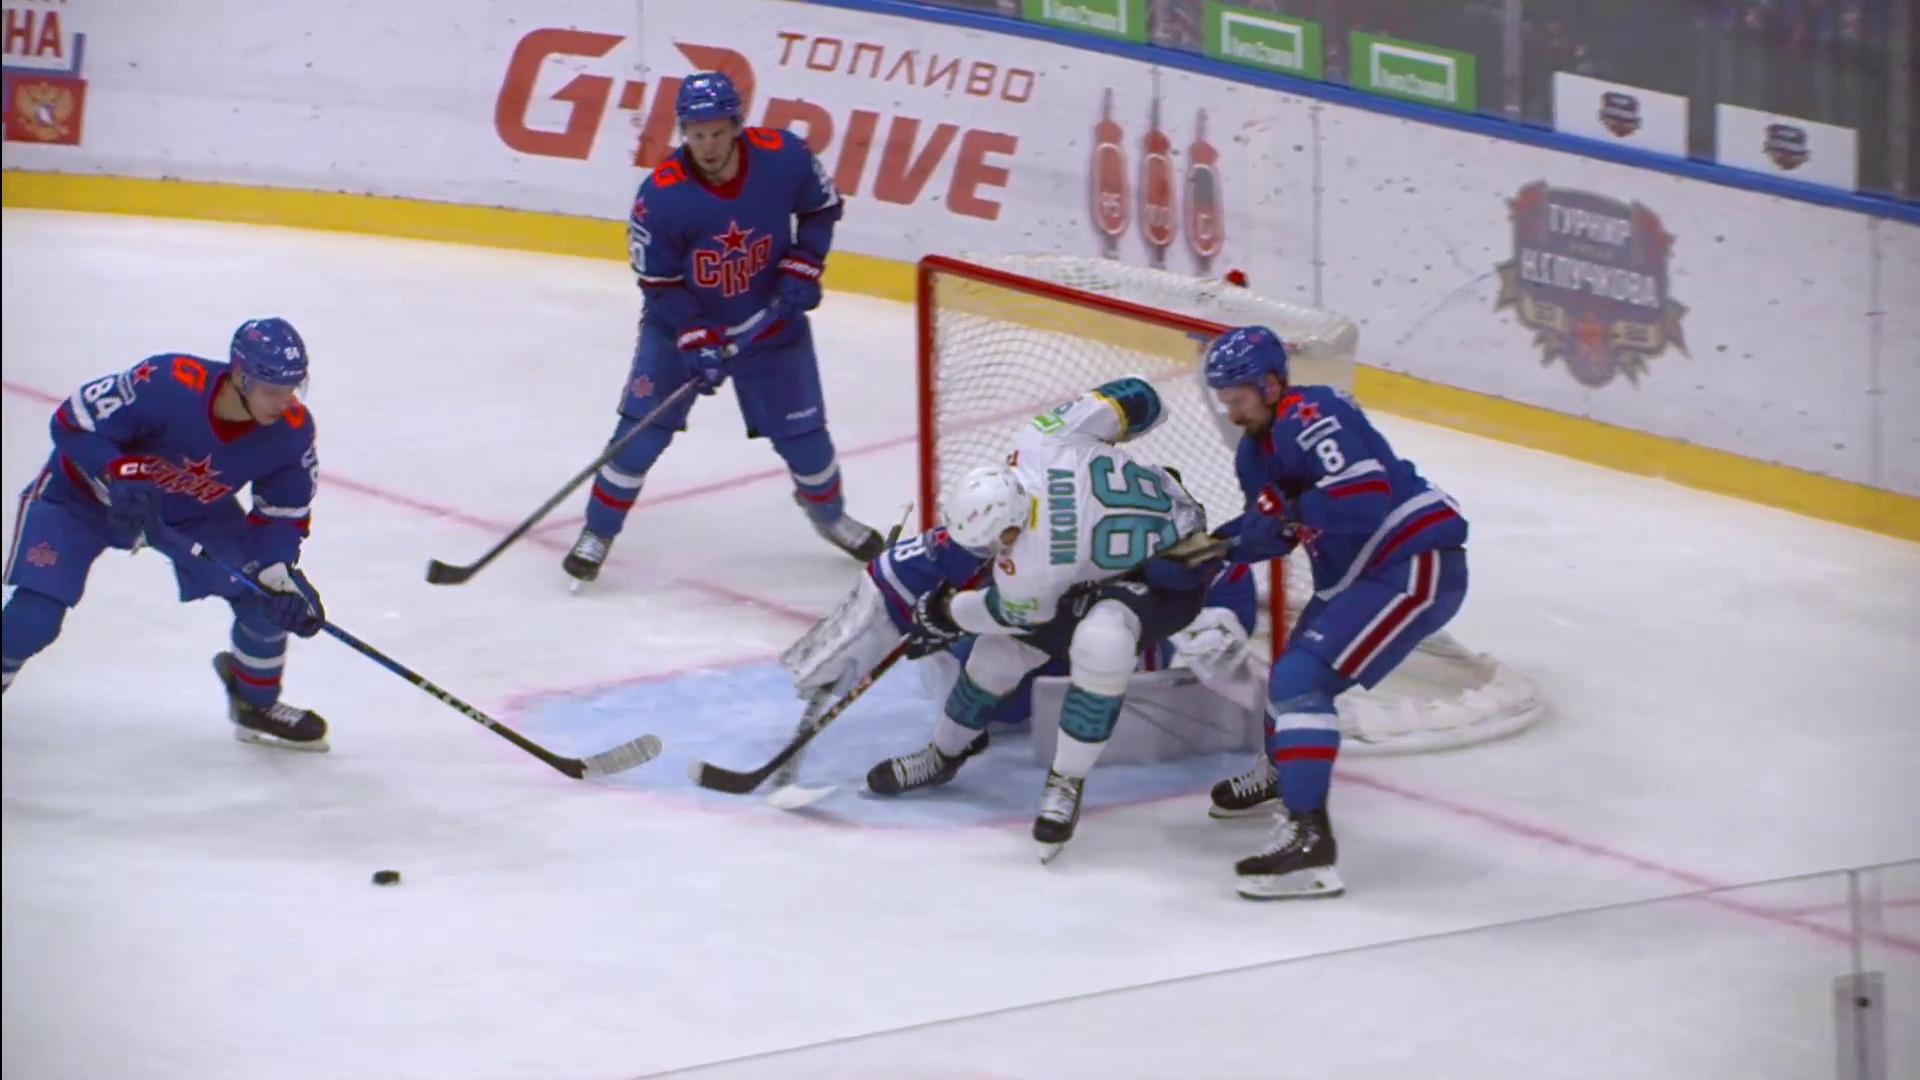ball: (372, 869, 401, 886)
